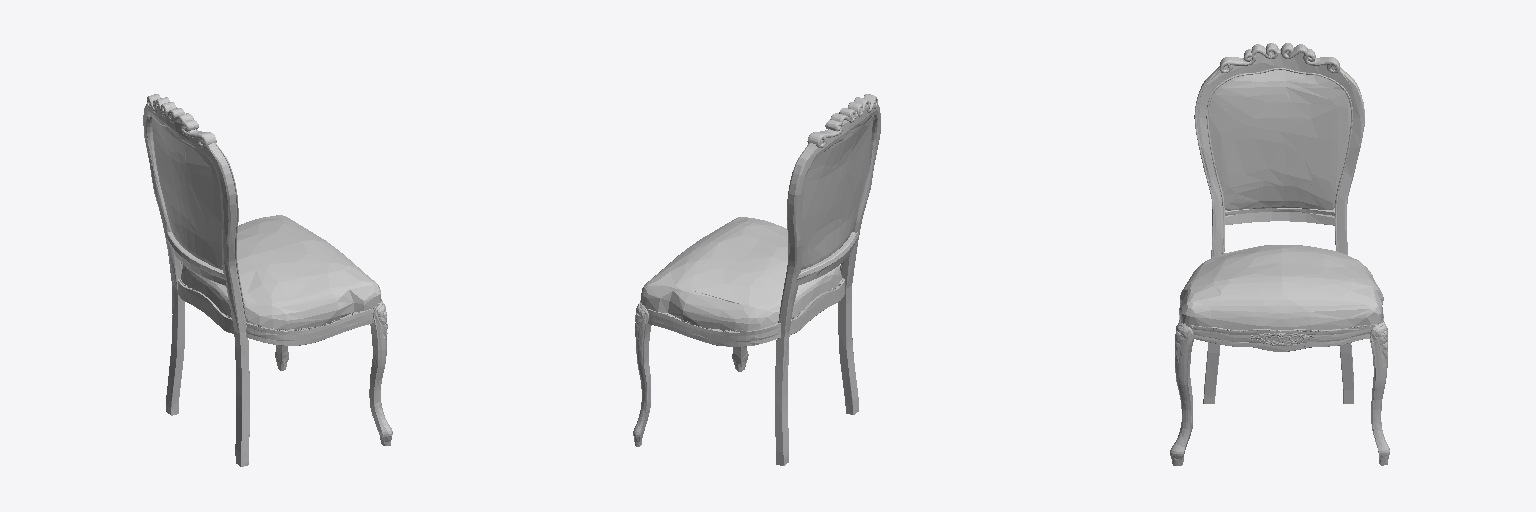
Rendered from 11_8d47cb7b-eff9-46e1-924c-2e33eed6f20c.obj.
3 renders of one model, left to right at view 1: azimuth 30°, elevation 25°; view 2: azimuth 150°, elevation 25°; view 3: azimuth 270°, elevation 25°, orthographic.
Size of the model in its own units: 0.5931 by 1.08 by 0.6313.